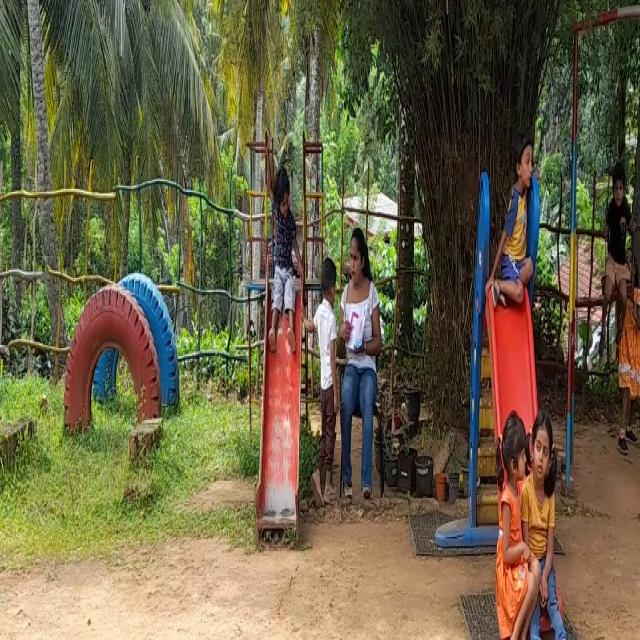adult: (341, 208, 378, 498)
child: (524, 393, 565, 640), (492, 396, 532, 640), (263, 140, 304, 368), (309, 242, 336, 496), (602, 159, 631, 342), (506, 134, 532, 312)
